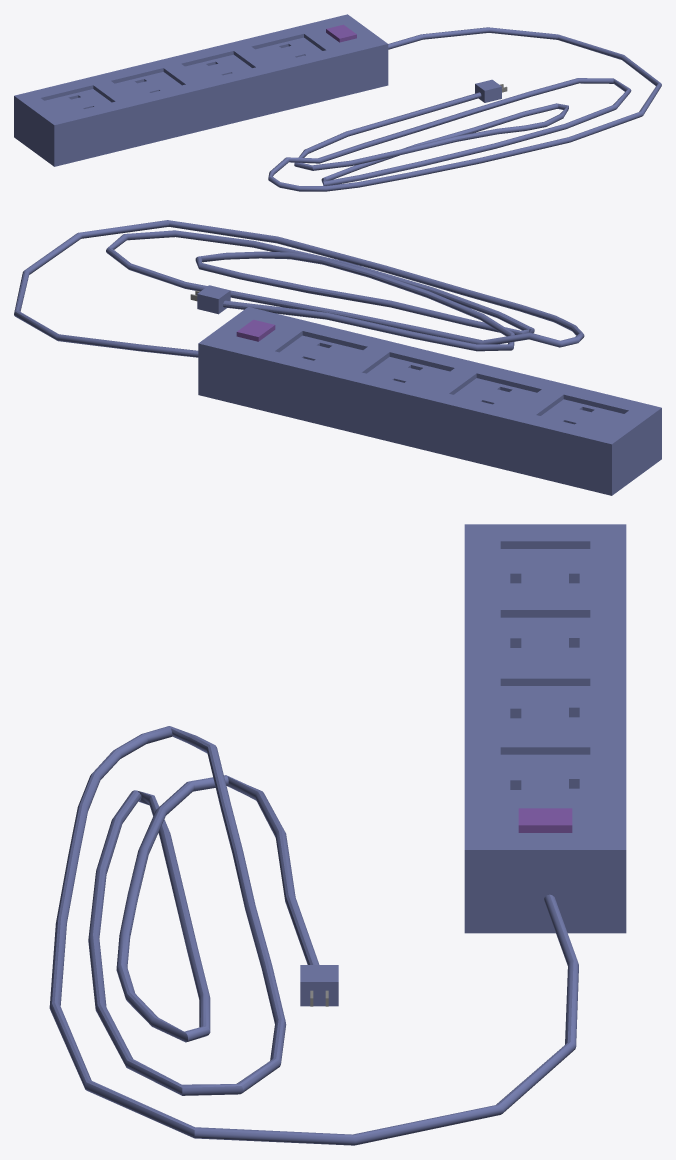
File: ExtensionCord.fbx
3 views of the same model, one above another, from view 1: azimuth 30°, elevation 25°; view 2: azimuth 150°, elevation 25°; view 3: azimuth 270°, elevation 25° (orthographic). The views are drawn at different scales.
Parts seen in each view (by area): view 1: pCube10, pCylinder1, pCube11; view 2: pCube10, pCylinder1, pCube11; view 3: pCube10, pCylinder1, pCube11.
Boxes of the visible parts, x1,y1,x2,y2 form: pCube10: (14, 14, 388, 166); pCylinder1: (268, 27, 661, 191); pCube11: (475, 79, 501, 102); pCube10: (198, 307, 661, 495); pCylinder1: (14, 220, 584, 357); pCube11: (197, 285, 230, 314); pCube10: (464, 524, 626, 933); pCylinder1: (49, 726, 578, 1145); pCube11: (300, 965, 338, 1006).
Bounding box in the file's own units: 2.82 × 0.2525 × 1.3.
